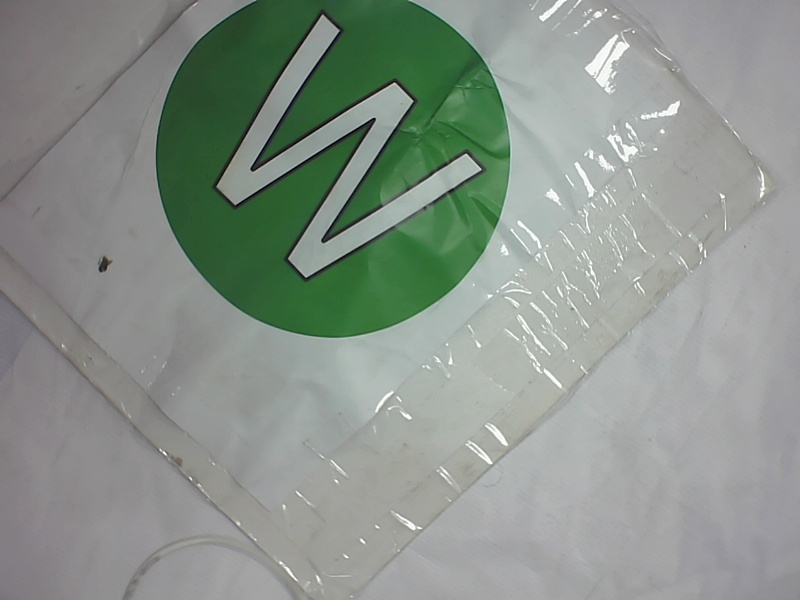areaB: (152, 3, 523, 340)
